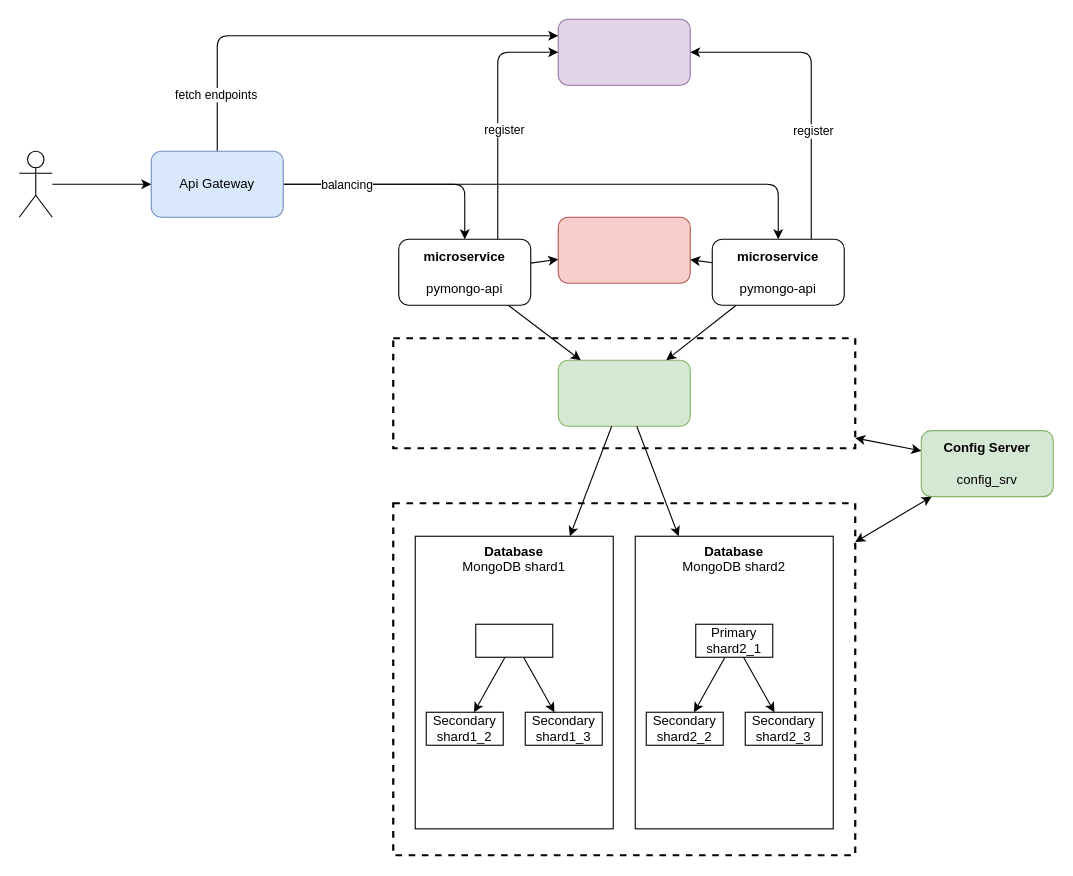
Some shapes in this 1073 by 876 pixel diagram are drawn without their labels. The box of each missing label's shape, as (x1, y1, x2, y2) in pixels:
Actor: (18, 150, 52, 217)
cache redis: (557, 216, 690, 283)
Consul: (557, 18, 690, 85)
Primary shard1_1: (475, 623, 553, 657)
Router mongos_router: (557, 359, 690, 426)
